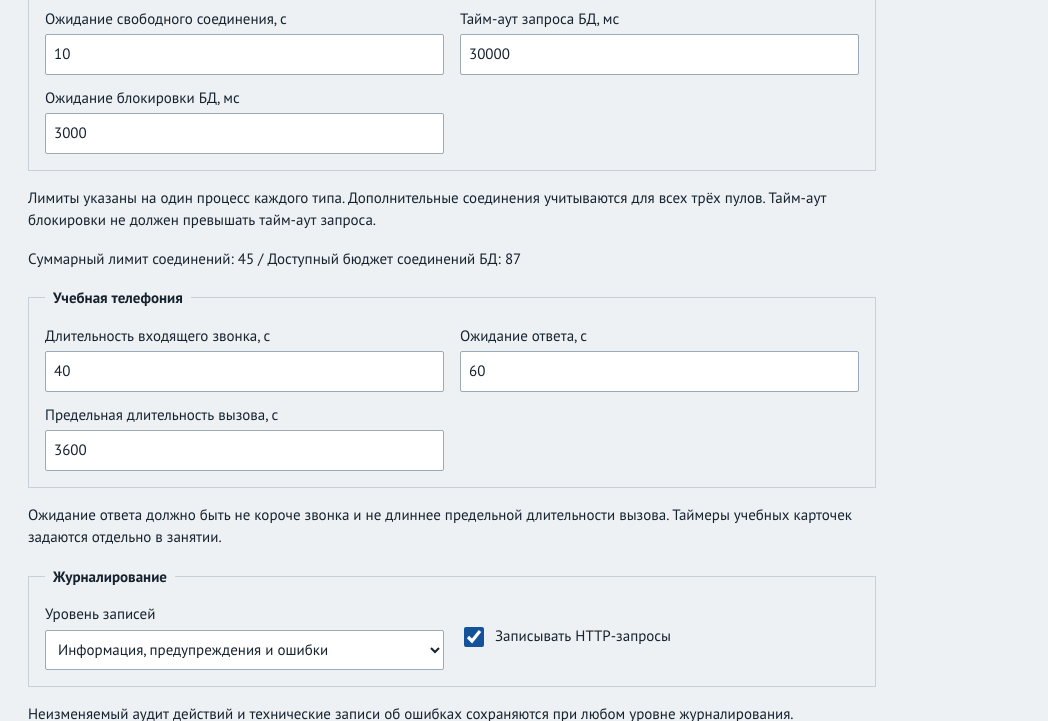
it: preserves the draft and request identity across failed saves and waits for real acknowledgements
(page scrolled)
Replace the text in the number field labelled "Длительность входящего звонка, с" with "25". click: (244, 372)
box: [45,351,444,392]
(page scrolled)
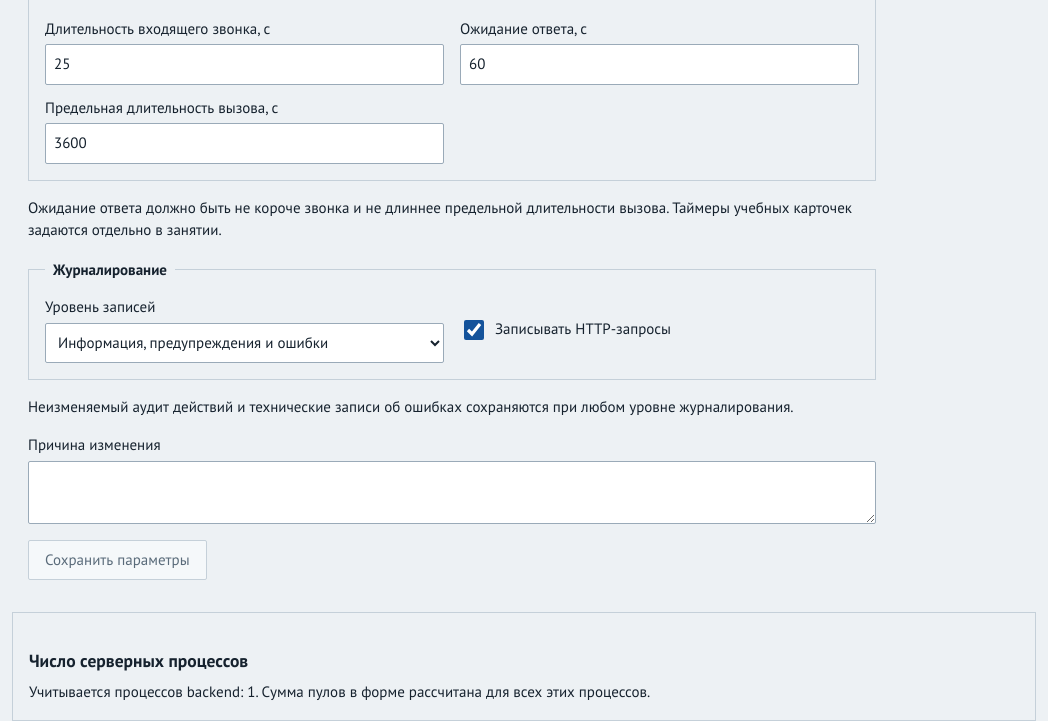
Type "Настройка учебного звонка" into the text box labelled "Причина изменения". click: (452, 492)
box: [28,461,876,524]
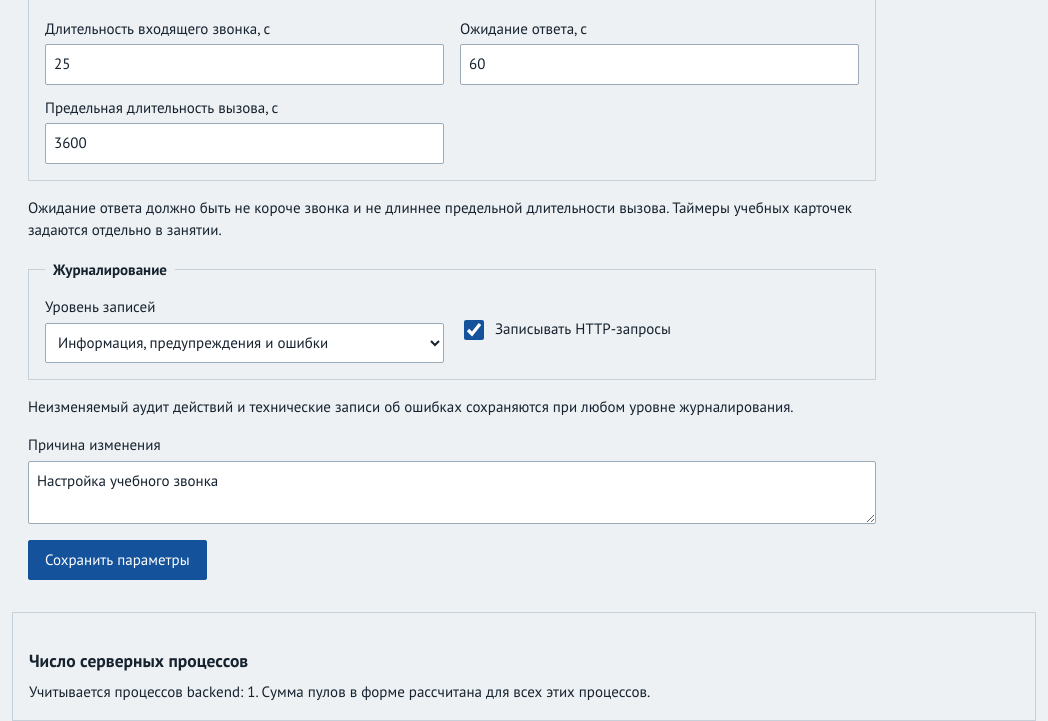
Click the button "Сохранить параметры". click: (117, 560)
box: [28,540,207,580]
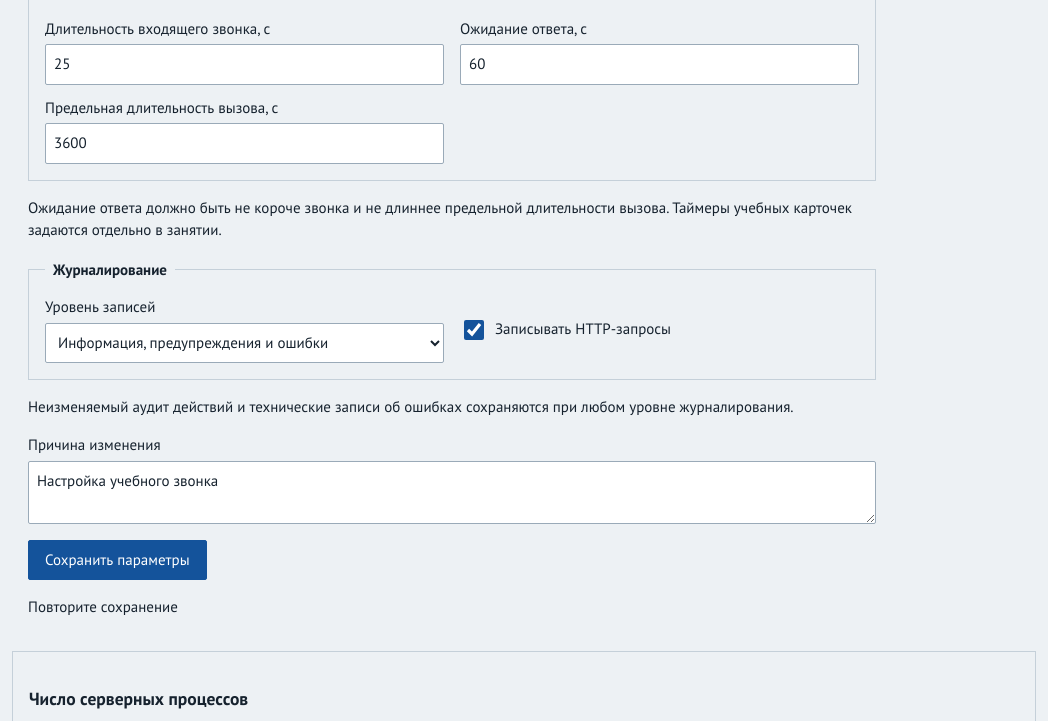
expect the text "Повторите сохранение" is shown: met, box [28,597,178,616]
Click the button "Сохранить параметры". click: (117, 560)
box: [28,540,207,580]
(page scrolled)
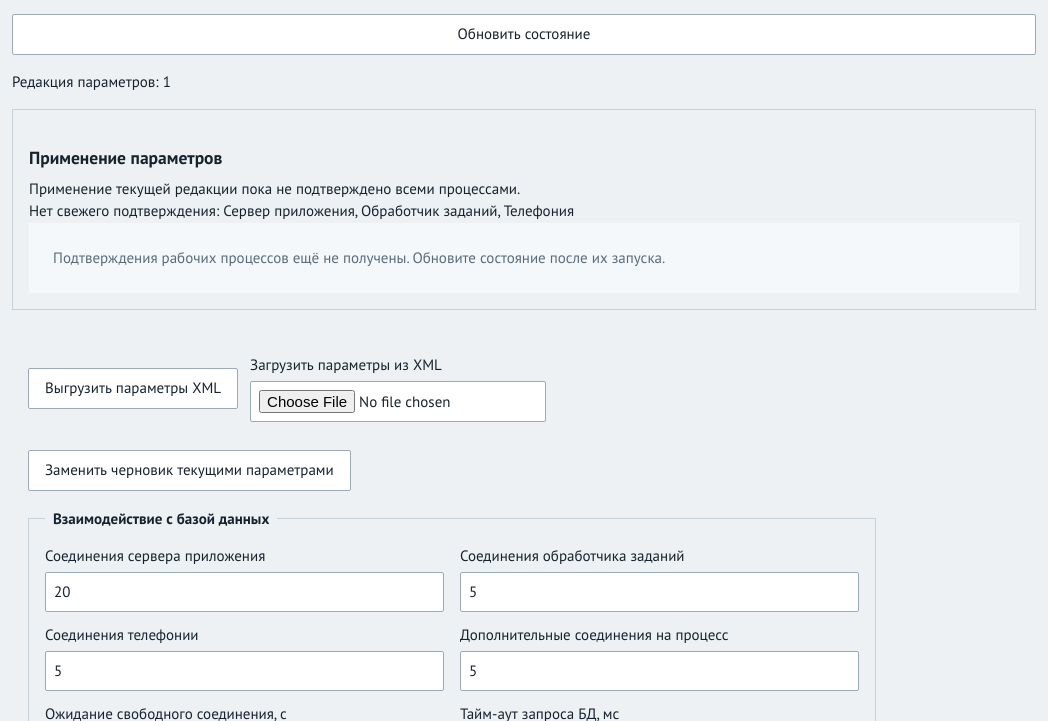
expect the text "Применение текущей редакции пока не подтверждено всеми процессами." is shown: met, box [29,179,520,198]
expect the text "Все рабочие процессы применили текущую редакцию." is not shown: met
Click the button "Обновить состояние". click: (524, 34)
box: [12,14,1036,54]
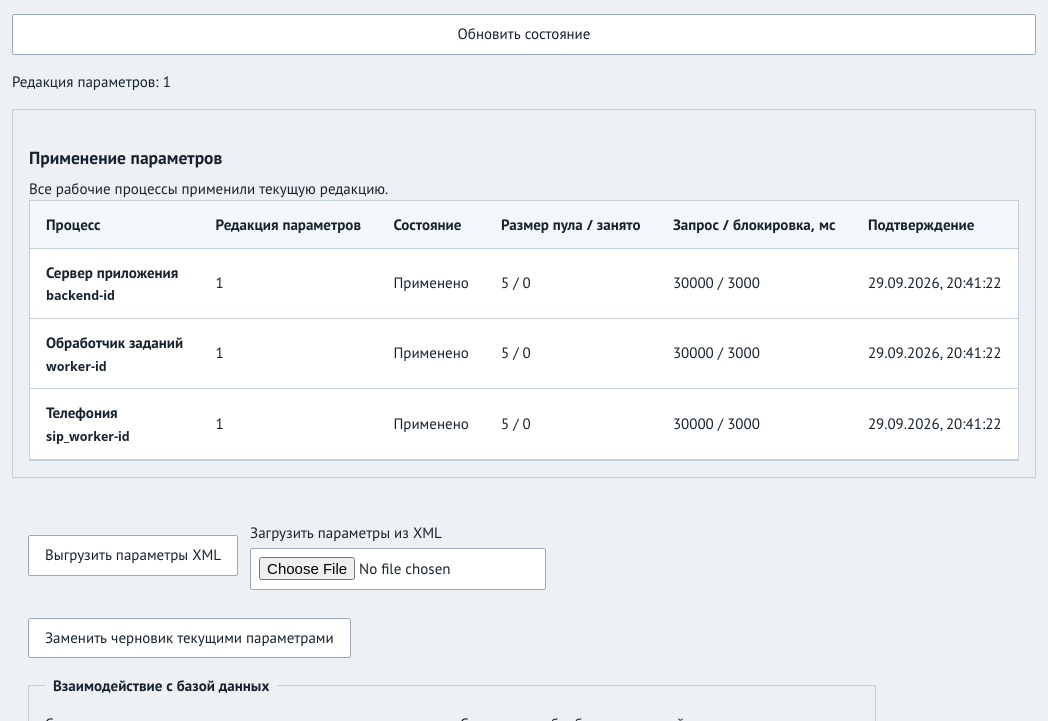
expect the text "Все рабочие процессы применили текущую редакцию." is shown: met, box [29,179,388,198]
expect the text "Применено" is shown 3 times: met, box [377,248,485,319]; [377,319,485,389]; [377,389,485,459]
